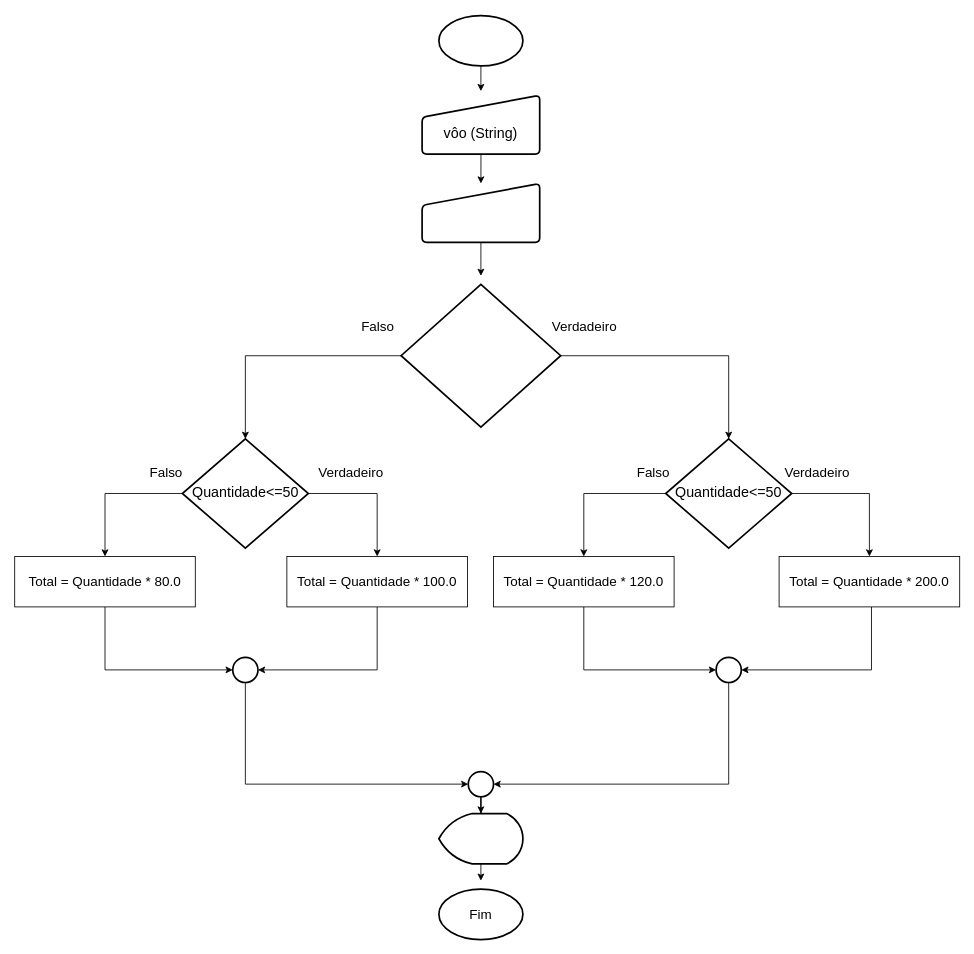
Image size: 974x954. Some labels were removed from this diagram. Each missing label, with the centre of its shape:
"Total": pixel 480 838
Início: pixel 480 40
Quantidade (Int): pixel 480 212
vôo=='D': pixel 480 355
